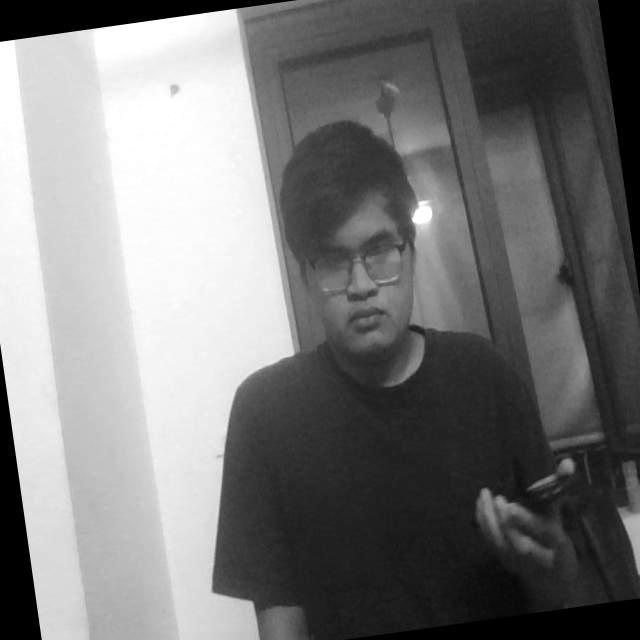phone: (473, 448, 598, 564)
